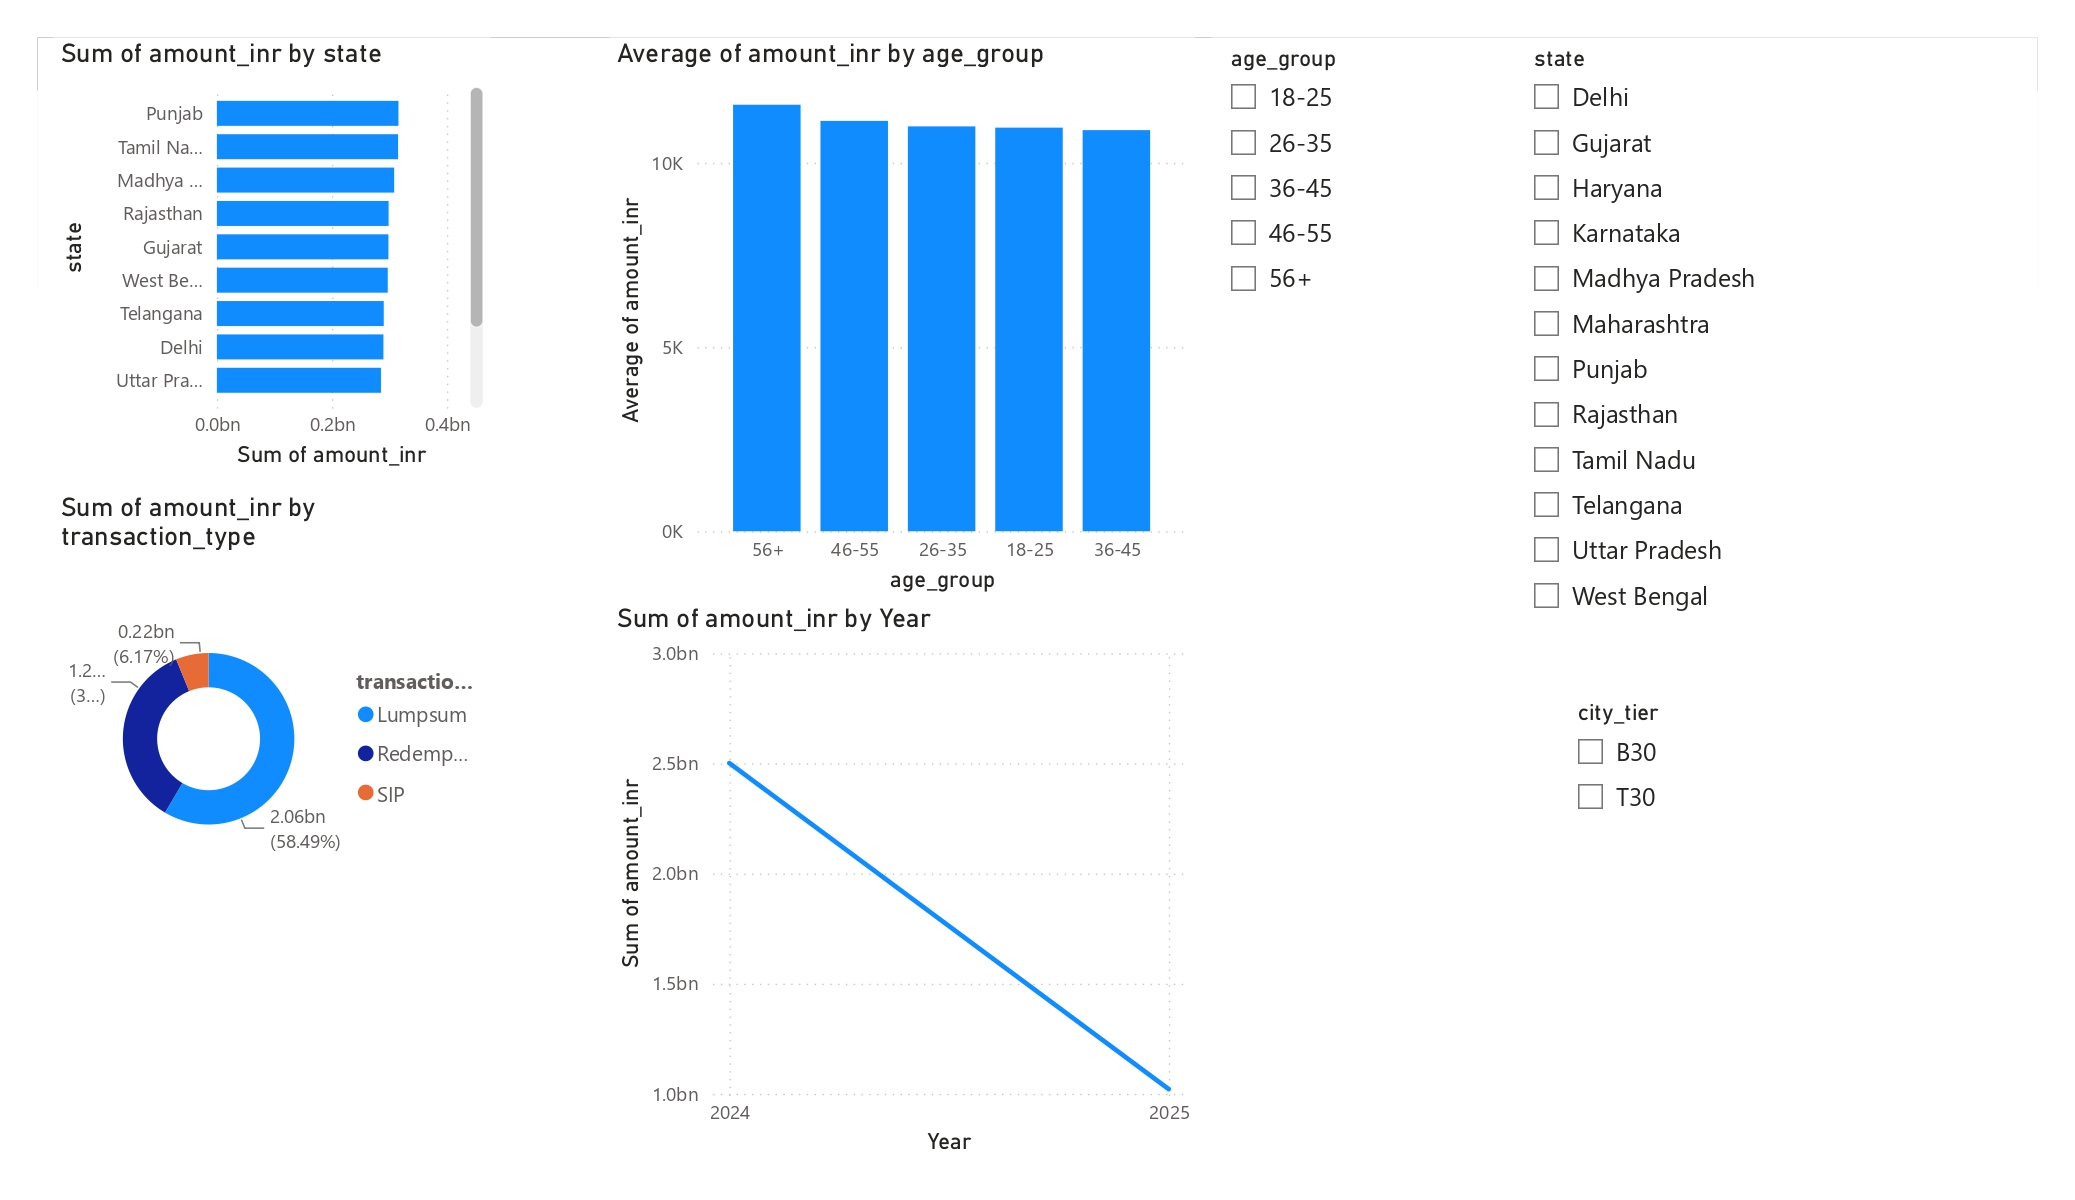

This screenshot's page, from the dashboard's own definition file:
{"tool":"powerbi","page":{"name":"Investor Analytics","canvas":[1280,720],"ordinal":2},"visuals":[{"type":"clusteredBarChart","fields":{"Category":["investor_transactions_cleaned.state"],"Y":["Sum(investor_transactions_cleaned.amount_inr)"]},"box":[10,0,280,280],"z":0},{"type":"donutChart","fields":{"Category":["investor_transactions_cleaned.transaction_type"],"Y":["Sum(investor_transactions_cleaned.amount_inr)"]},"box":[10,290,280,280],"z":1000},{"type":"clusteredColumnChart","fields":{"Category":["investor_transactions_cleaned.age_group"],"Y":["Avg(investor_transactions_cleaned.amount_inr)"]},"box":[366.4,0,374.6,359.5],"z":2000},{"type":"lineChart","fields":{"Category":["investor_transactions_cleaned.transaction_date.Variation.Date Hierarchy.Year","investor_transactions_cleaned.transaction_date.Variation.Date Hierarchy.Quarter","investor_transactions_cleaned.transaction_date.Variation.Date Hierarchy.Month","investor_transactions_cleaned.transaction_date.Variation.Date Hierarchy.Day"],"Y":["Sum(investor_transactions_cleaned.amount_inr)"]},"box":[366.4,360.9,376,359.5],"z":3000},{"type":"slicer","fields":{"Values":["investor_transactions_cleaned.state"]},"box":[945.5,0,334.8,385.6],"z":4000},{"type":"slicer","fields":{"Values":["investor_transactions_cleaned.age_group"]},"box":[751,0,194,360],"z":5000},{"type":"slicer","fields":{"Values":["investor_transactions_cleaned.city_tier"]},"box":[972.9,418.5,279.9,150.9],"z":6000}]}

Visuals, with their boxes on the page's 1280x720 design canvas (x1, y1, x2, y2). These are canvas units, not pixel positions in the 2075x1200 screenshot, which may show the page scaled, cropped or inside an application window:
clusteredBarChart - investor_transactions_cleaned.state x Sum(investor_transactions_cleaned.amount_inr): l=10, t=0, r=290, b=280
donutChart - investor_transactions_cleaned.transaction_type x Sum(investor_transactions_cleaned.amount_inr): l=10, t=290, r=290, b=570
clusteredColumnChart - investor_transactions_cleaned.age_group x Avg(investor_transactions_cleaned.amount_inr): l=366, t=0, r=741, b=360
lineChart - investor_transactions_cleaned.transaction_date.Variation.Date Hierarchy.Year x investor_transactions_cleaned.transaction_date.Variation.Date Hierarchy.Quarter: l=366, t=361, r=742, b=720
slicer - investor_transactions_cleaned.state: l=946, t=0, r=1280, b=386
slicer - investor_transactions_cleaned.age_group: l=751, t=0, r=945, b=360
slicer - investor_transactions_cleaned.city_tier: l=973, t=418, r=1253, b=569
